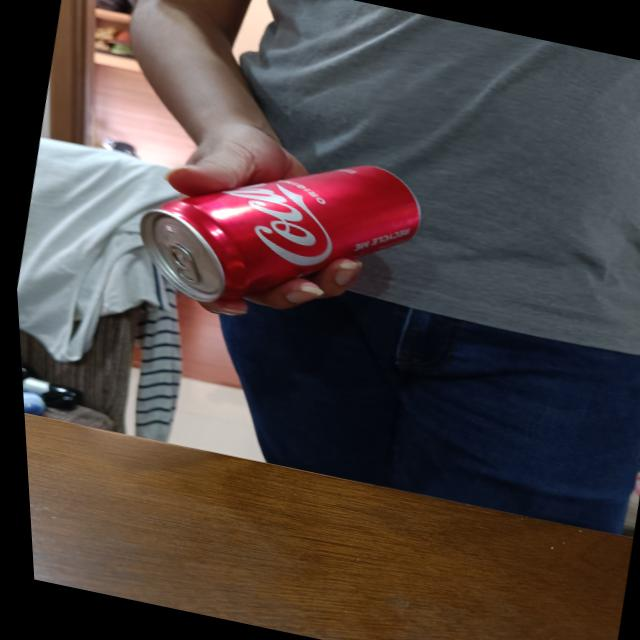coke: (112, 119, 433, 351)
